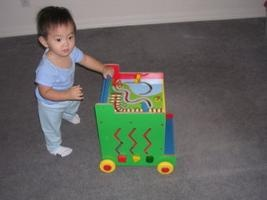person without safety: (32, 6, 91, 160)
